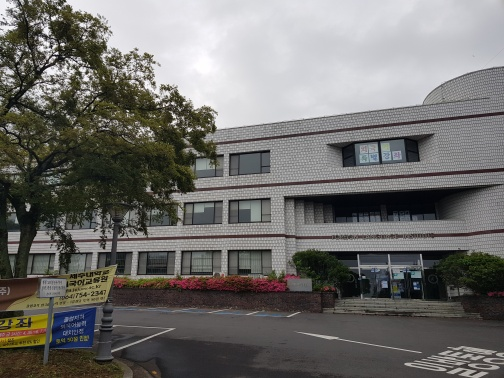Foreign Language Institute: (151, 99, 503, 326), (288, 210, 477, 326), (319, 123, 445, 174), (171, 189, 276, 236)
